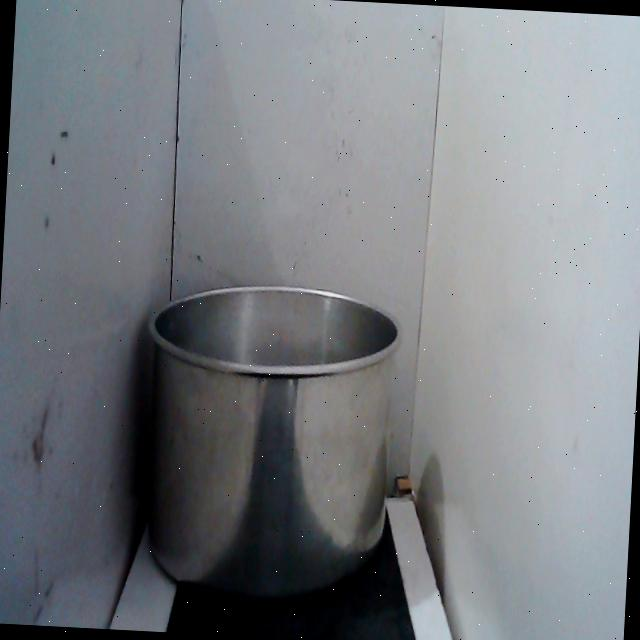metal: (125, 262, 412, 622)
